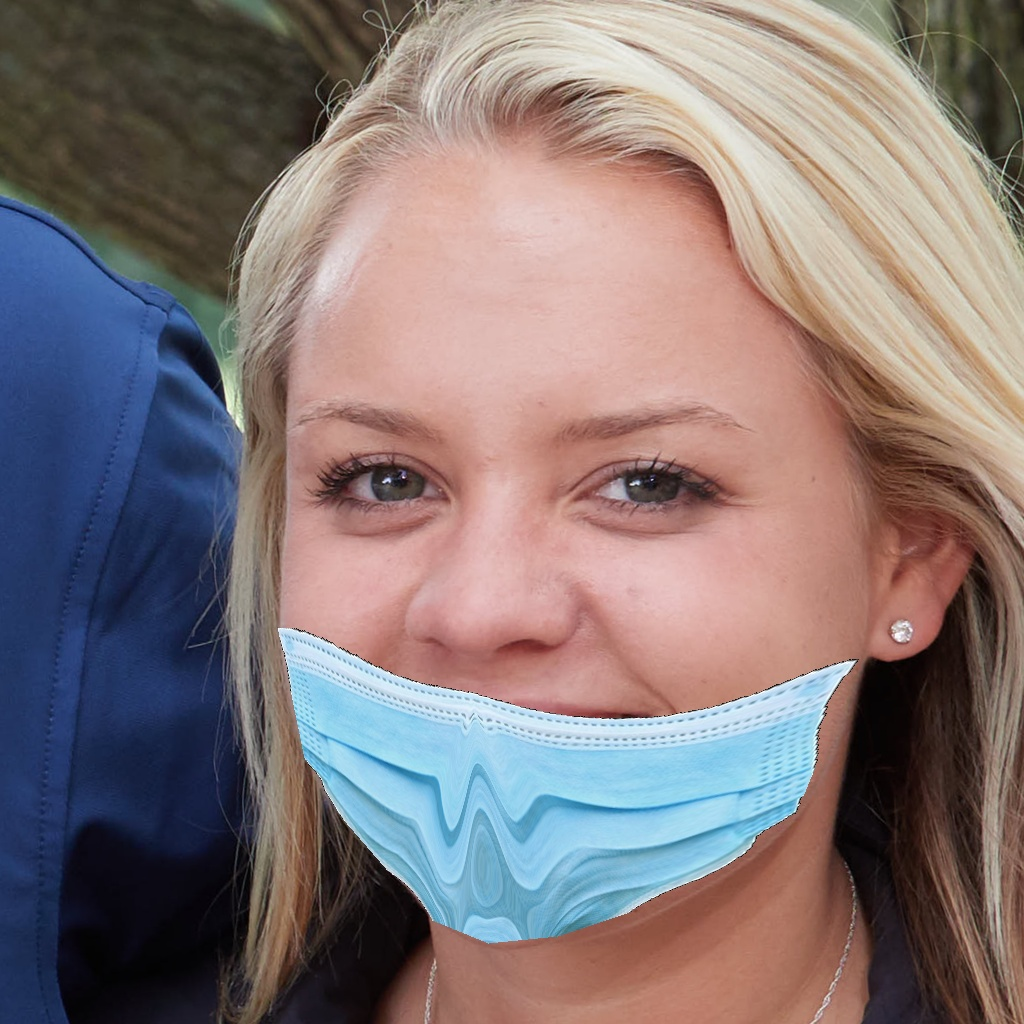mascarilla_mal_puesta: (282, 398, 912, 998)
